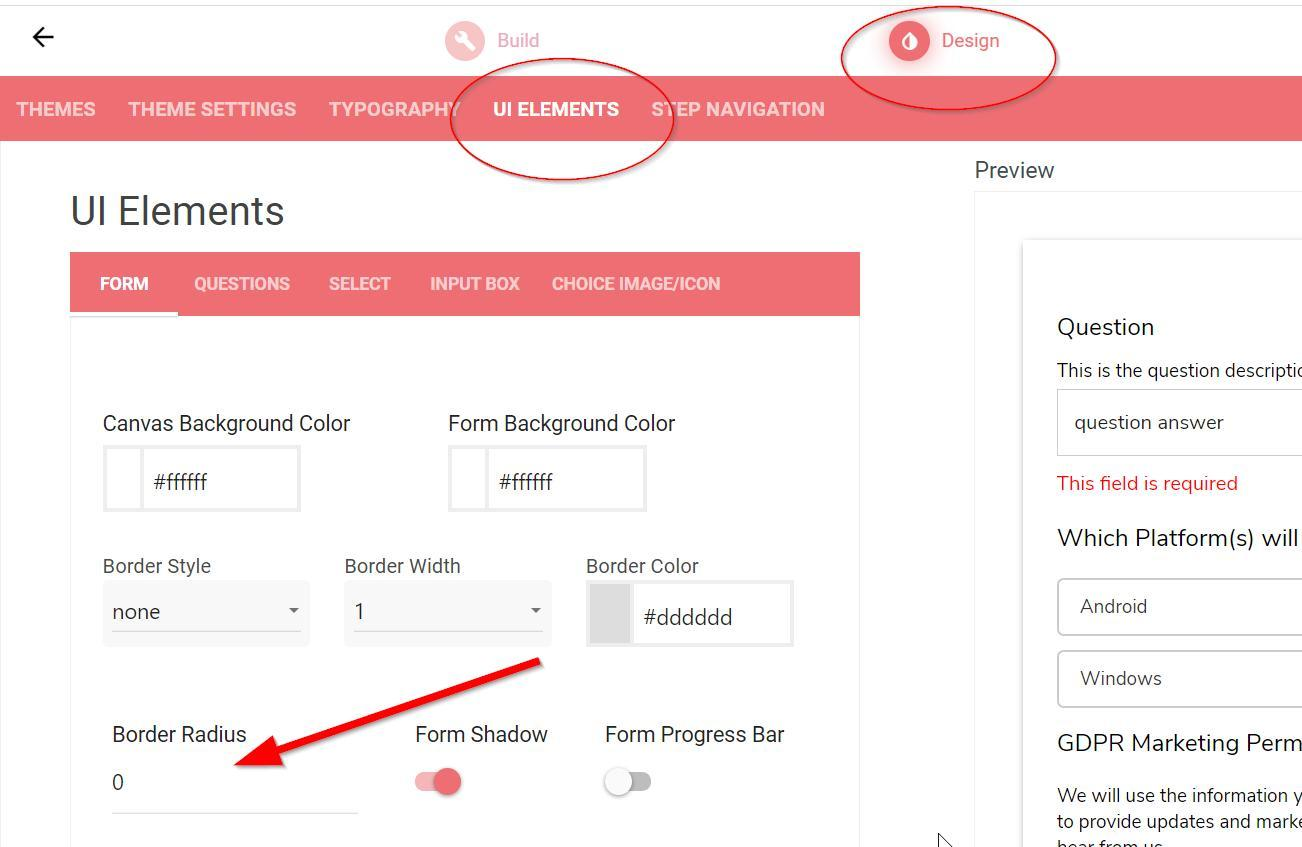button: (1060, 650, 1302, 708), (1059, 580, 1302, 636)
dropdown: (346, 582, 555, 647), (106, 581, 313, 646)
icon: (445, 21, 488, 65), (889, 19, 931, 64), (31, 24, 59, 53)
input: (1060, 390, 1302, 456), (110, 751, 360, 813), (632, 583, 793, 644), (143, 447, 301, 509), (488, 449, 647, 508)
label: (70, 191, 287, 232), (105, 408, 361, 439), (447, 410, 678, 438), (607, 725, 790, 748), (111, 723, 250, 753), (1055, 311, 1164, 349), (650, 98, 830, 121), (411, 724, 558, 752), (126, 99, 299, 120), (549, 275, 726, 295), (344, 553, 469, 579), (329, 100, 464, 123), (490, 100, 625, 121), (586, 553, 702, 577), (103, 554, 218, 578), (426, 271, 525, 297), (192, 272, 296, 296), (972, 157, 1058, 186), (12, 95, 101, 122), (327, 272, 394, 297), (939, 30, 1005, 55), (493, 29, 544, 53), (97, 275, 155, 295)
switch: (603, 766, 654, 800), (415, 767, 465, 798)
